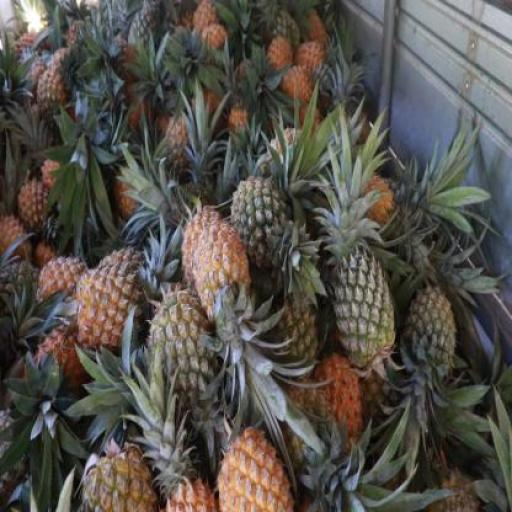------------------------------: (148, 290, 219, 399), (231, 177, 295, 275), (81, 443, 154, 512), (36, 64, 69, 122)
Pineapple - v8 v1: (76, 256, 146, 357), (215, 427, 293, 510), (194, 220, 255, 322), (180, 207, 229, 296), (38, 255, 86, 317), (18, 173, 56, 227)
